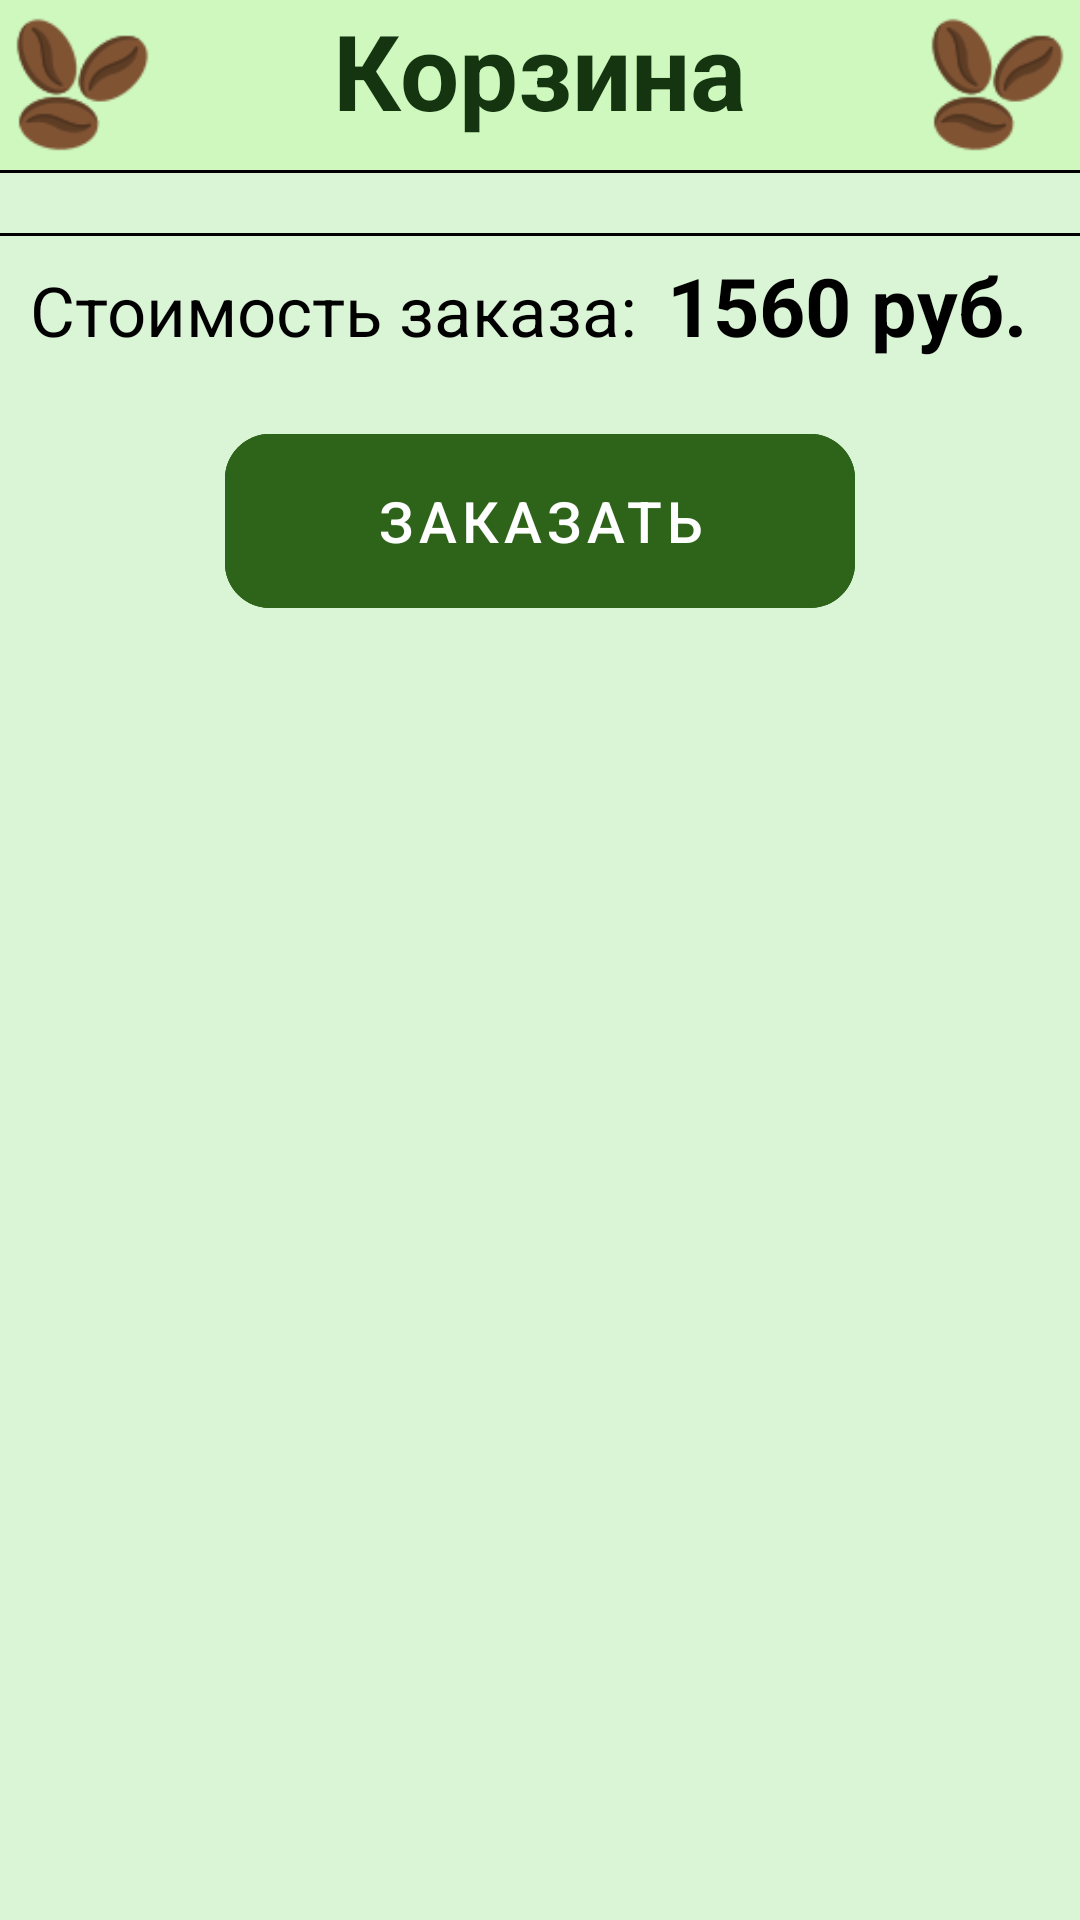

Where icons sit on this 1080px x 1920px app screen, as (x1, y1, x2, y2):
coffee beans: (16, 19, 148, 151), (931, 19, 1063, 151)
